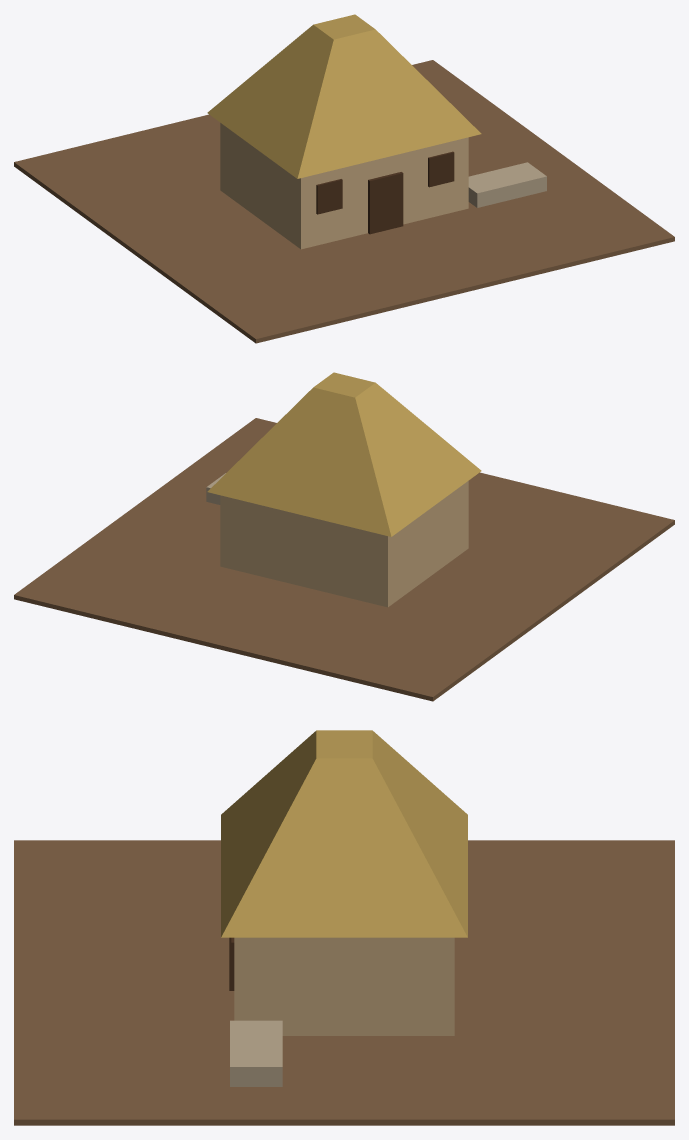
File: bld_special_hospital_a01_lod1.glb
3 views of the same model, one above another, from view 1: azimuth 30°, elevation 25°; view 2: azimuth 150°, elevation 25°; view 3: azimuth 270°, elevation 25° (orthographic). The views are drawn at different scales.
Visible parts, largest first — view 1: body; view 2: body; view 3: body.
Boxes of the visible parts, box(x1,y1,x2,y2) form: body: box(14, 14, 674, 343); body: box(14, 372, 674, 701); body: box(14, 730, 674, 1125).
Size of the model in its own units: 15 by 6.05 by 15.
